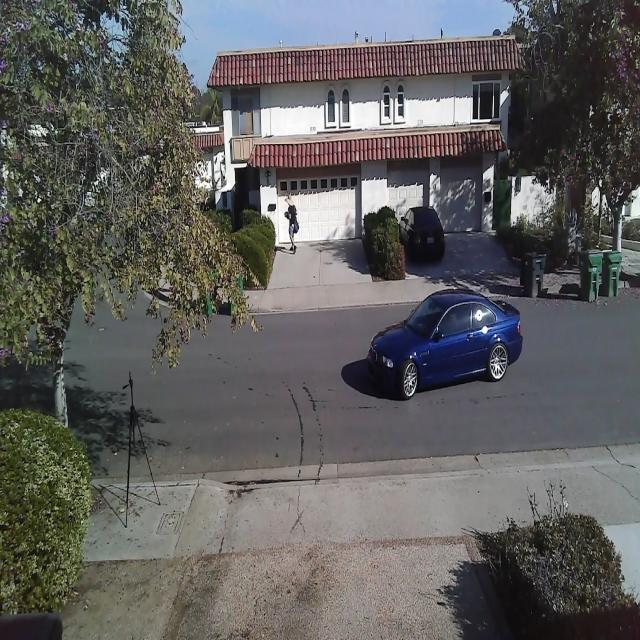Carbeetle: (360, 280, 527, 398)
Civilian: (399, 205, 445, 263)
